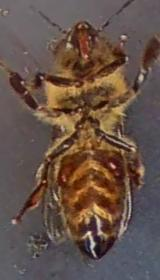varroa_mite: (40, 149, 80, 189), (90, 146, 128, 184)
